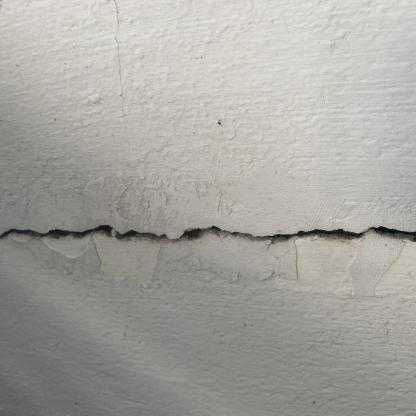crack: (1, 224, 415, 242)
